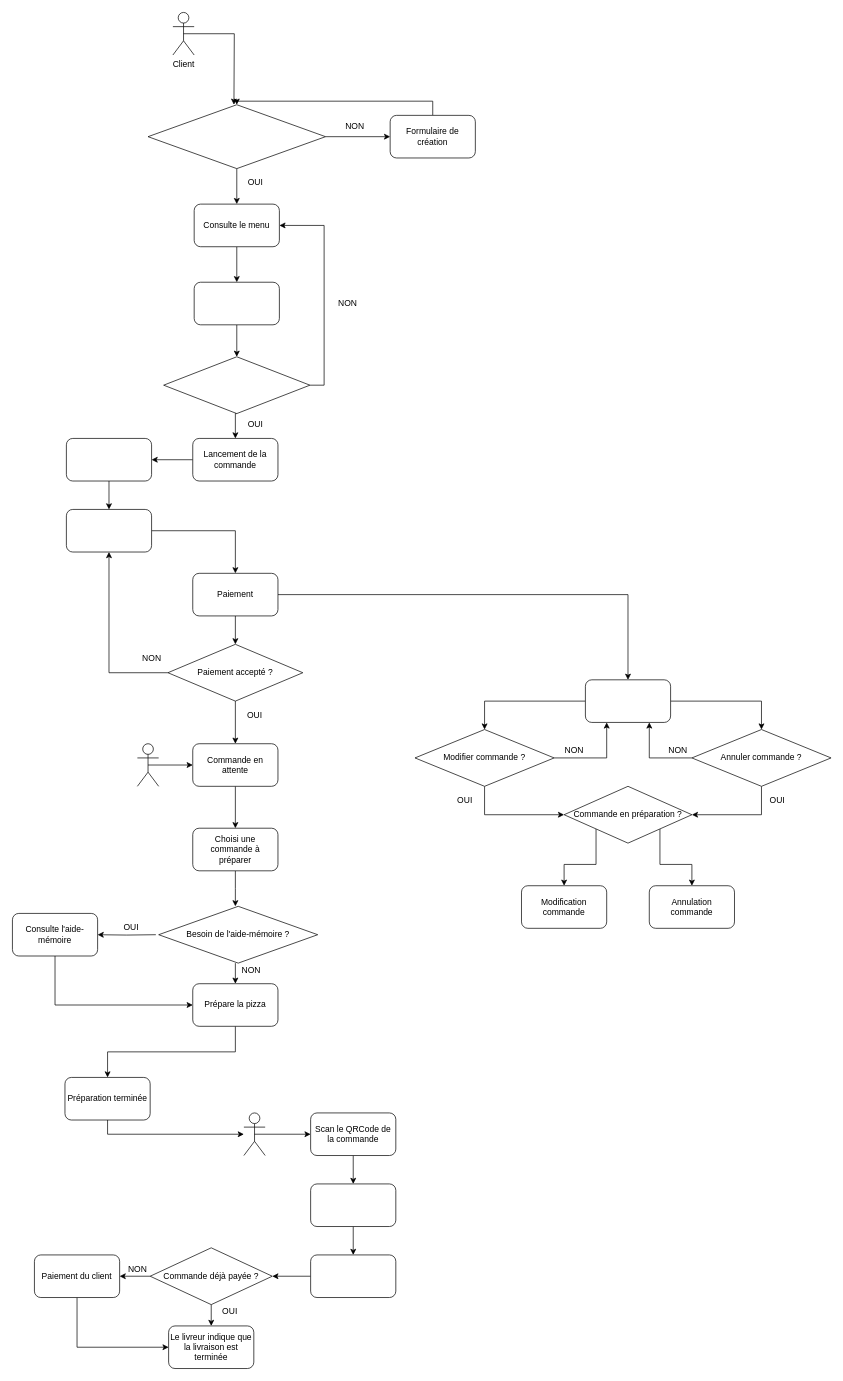
Some shapes in this 843 by 1381 pixel diagram are drawn without their labels. The centre of each missing label's shape, as x and y in pixels:
"Ajout au panier" belongs at [236,303].
"Choix du mode de paiement" belongs at [109,530].
"Choix terminé ?" belongs at [236,385].
"Dispose d'un compte ?" belongs at [236,136].
"Donne la commande au client" belongs at [353,1276].
"Historique commandes" belongs at [628,700].
"Livreur" belongs at [254,1134].
"Note éventuelle pour la livraison" belongs at [109,459].
"Pizzaiolo" belongs at [148,764].
"Se rend chez le client" belongs at [353,1205].
